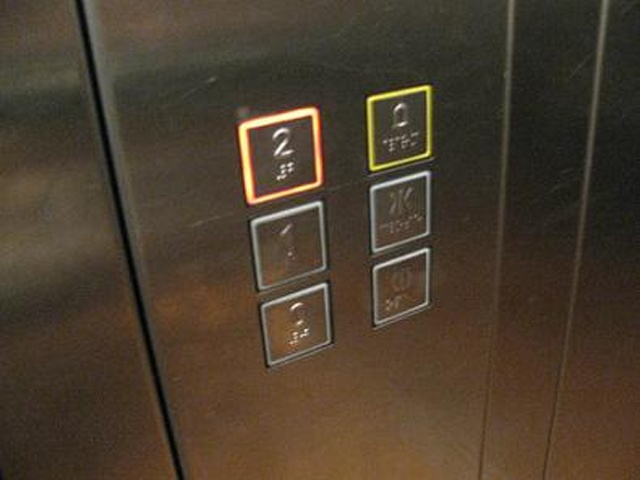0: (257, 285, 336, 368)
1: (249, 202, 328, 285)
2: (239, 103, 324, 204)
alarm: (363, 83, 434, 174)
close: (367, 173, 433, 248)
open: (372, 249, 432, 323)
